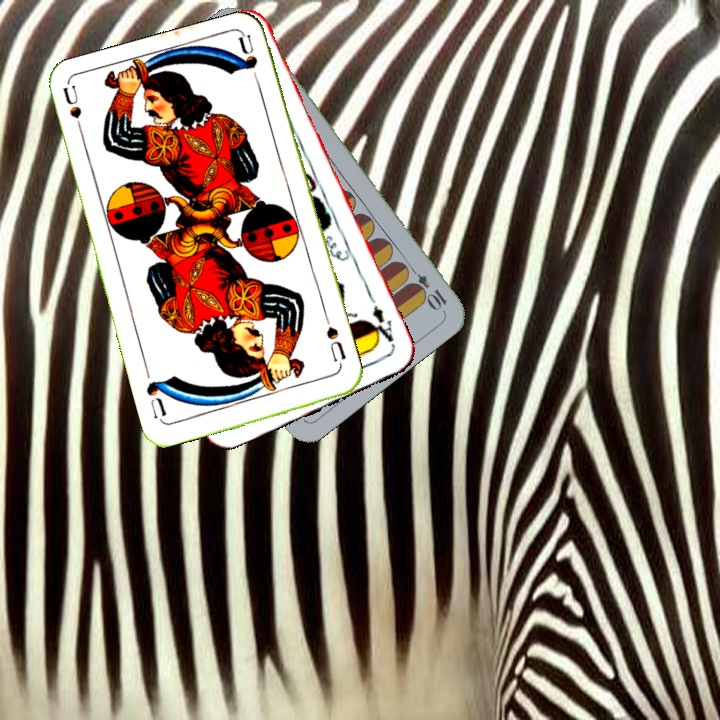E10: (403, 261, 450, 313)
EA: (365, 301, 398, 349)
SU: (59, 83, 87, 142), (322, 322, 348, 372)
